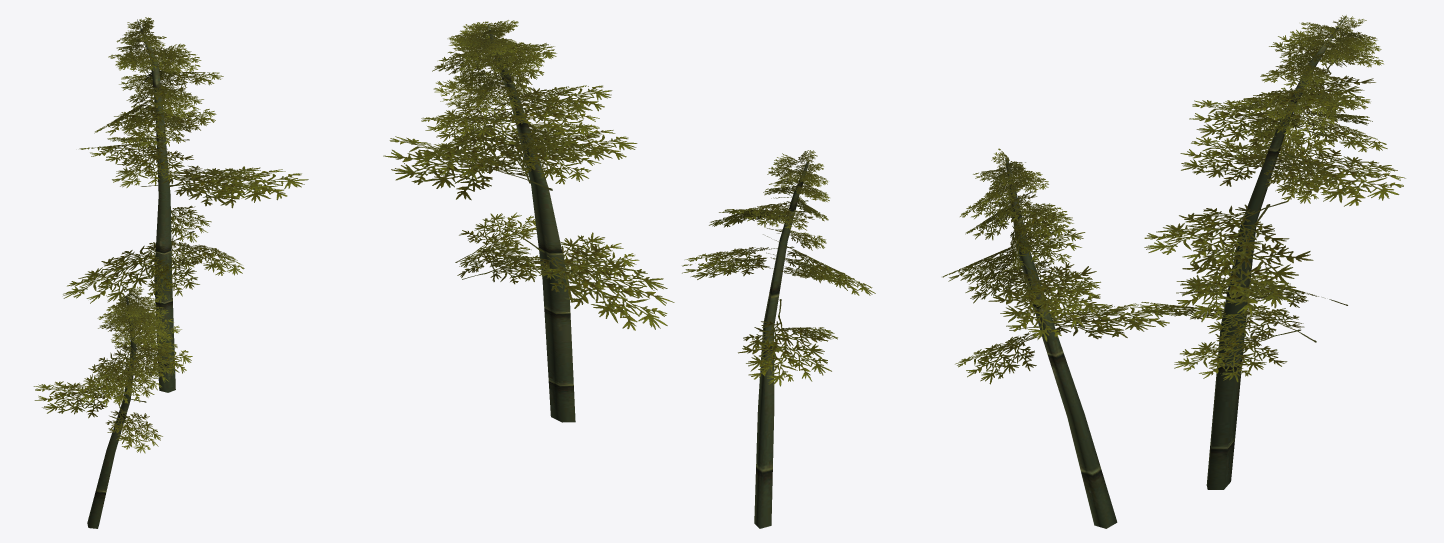
Rendered from Area_03_16.fbx.
3 renders of one model, left to right at view 1: azimuth 30°, elevation 25°; view 2: azimuth 150°, elevation 25°; view 3: azimuth 270°, elevation 25°, orthographic. The views are drawn at different scales.
Visible parts, largest first — view 1: Area_03_16; view 2: Area_03_16; view 3: Area_03_16.
Part boxes in pixels (bbox=[...]): Area_03_16: bbox=[33, 17, 308, 528]; Area_03_16: bbox=[383, 20, 875, 528]; Area_03_16: bbox=[942, 15, 1405, 528].
Bounding box in the file's own units: 1610 × 1942 × 1490.
